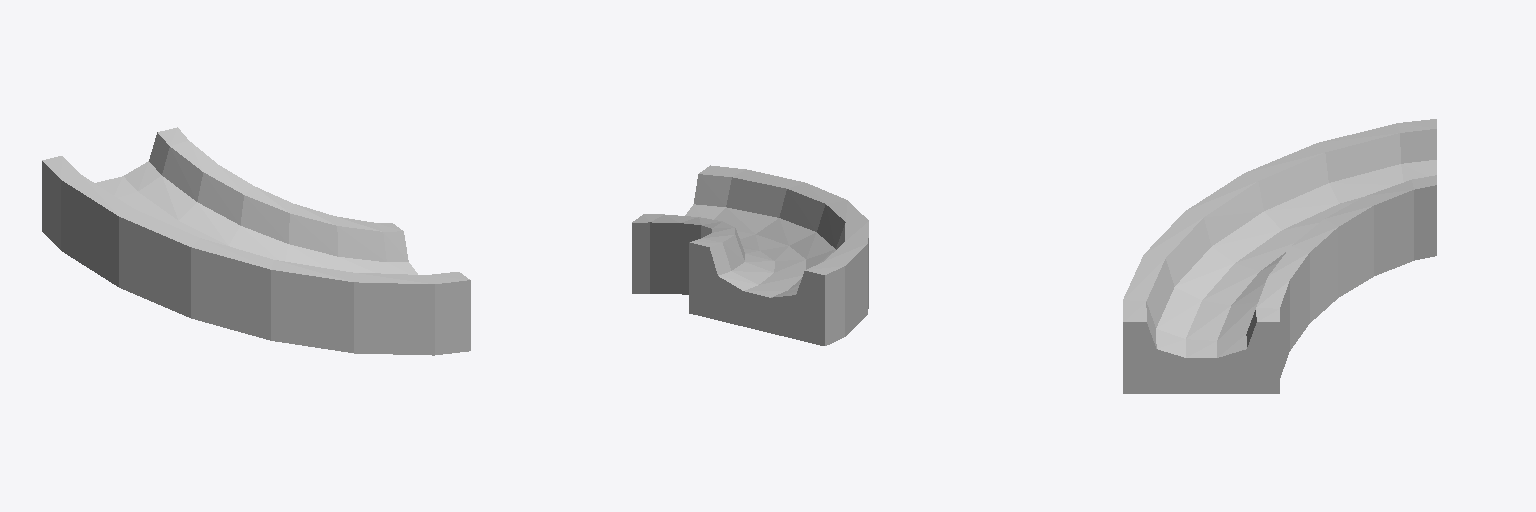
The model's file is helix-quarter-right.obj.
3 views of the same model, side by side, from view 1: azimuth 30°, elevation 25°; view 2: azimuth 150°, elevation 25°; view 3: azimuth 270°, elevation 25° (orthographic).
Parts seen in each view (by area): view 1: helix-quarter-right; view 2: helix-quarter-right; view 3: helix-quarter-right.
Part boxes in pixels (x1,y1,x2,y2): helix-quarter-right: (42,127,470,355); helix-quarter-right: (632,165,868,345); helix-quarter-right: (1123,119,1436,393).
Size of the model in its own units: 2 by 1 by 2.